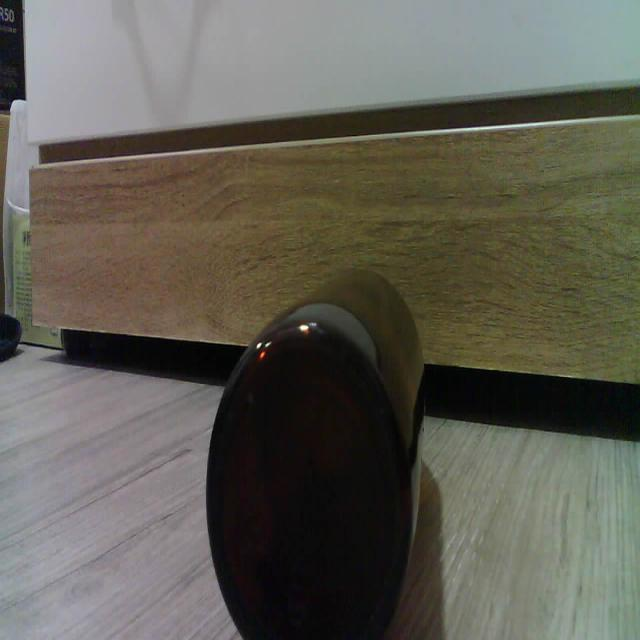bottle: (206, 269, 424, 639)
